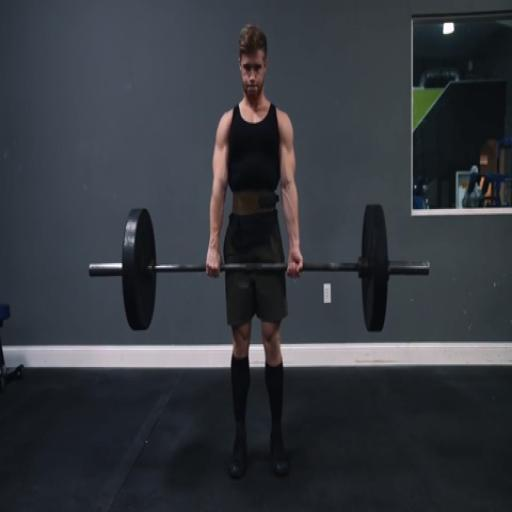exercise: (204, 21, 306, 481)
